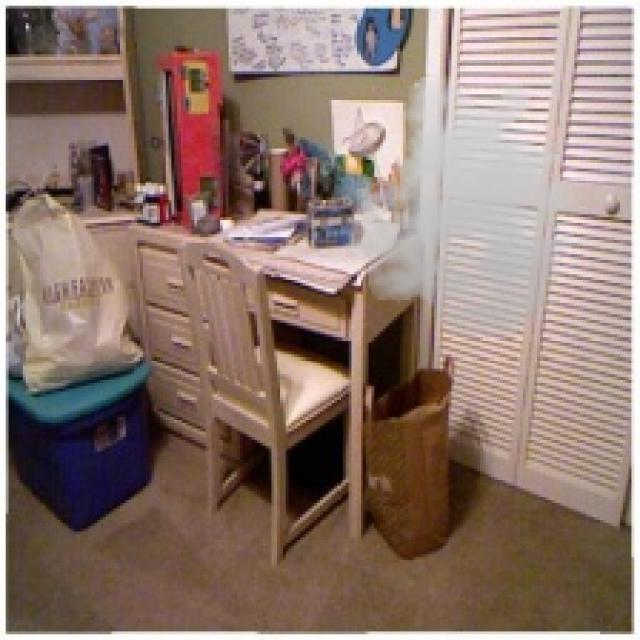Smoke: (337, 71, 603, 340)
